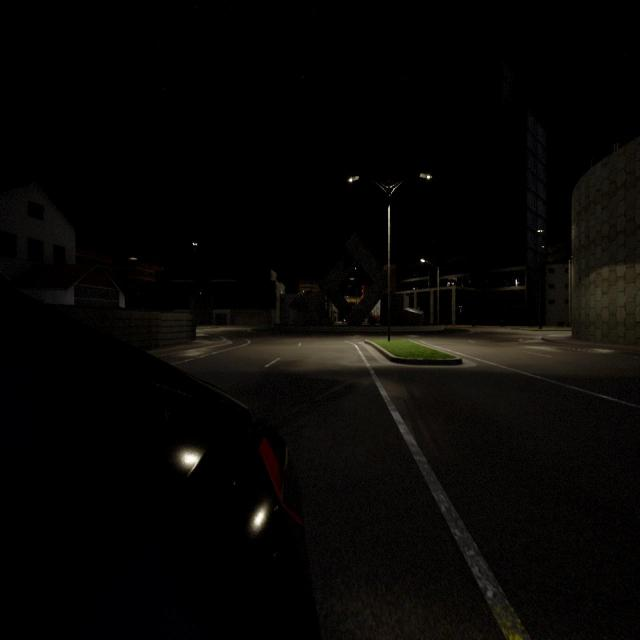Vehicle: (0, 296, 309, 637)
